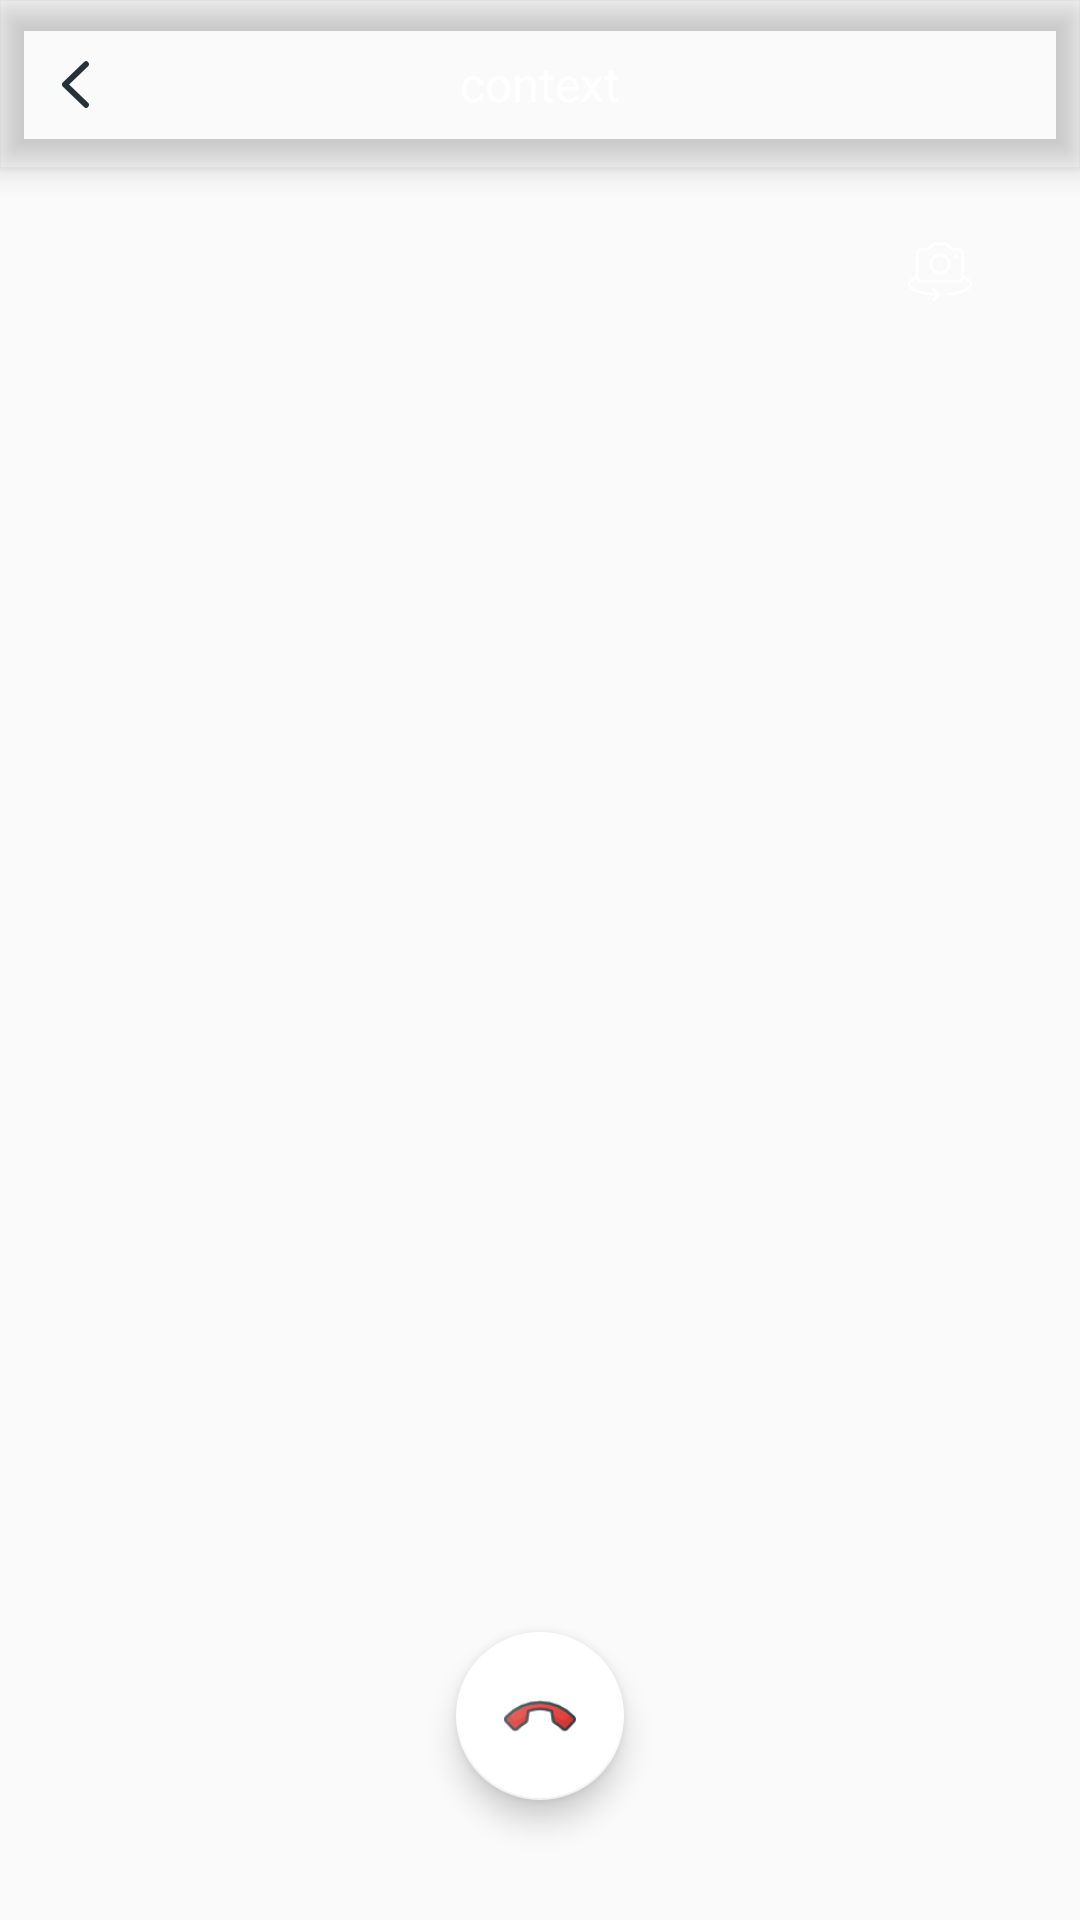

Icon bounding boxes for this 1080 x 1920 phone screenshot, format (left=x1, top=y1, right=x2, bottom=y2):
back: (left=0, top=12, right=156, bottom=158)
end call: (left=456, top=1700, right=624, bottom=1800)
